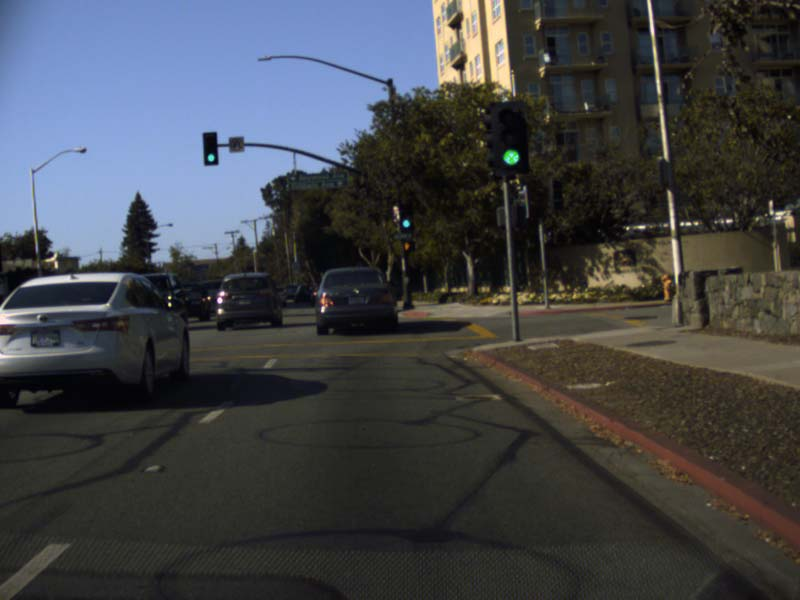Green: (494, 102, 527, 173), (203, 132, 216, 164), (399, 204, 413, 232)
